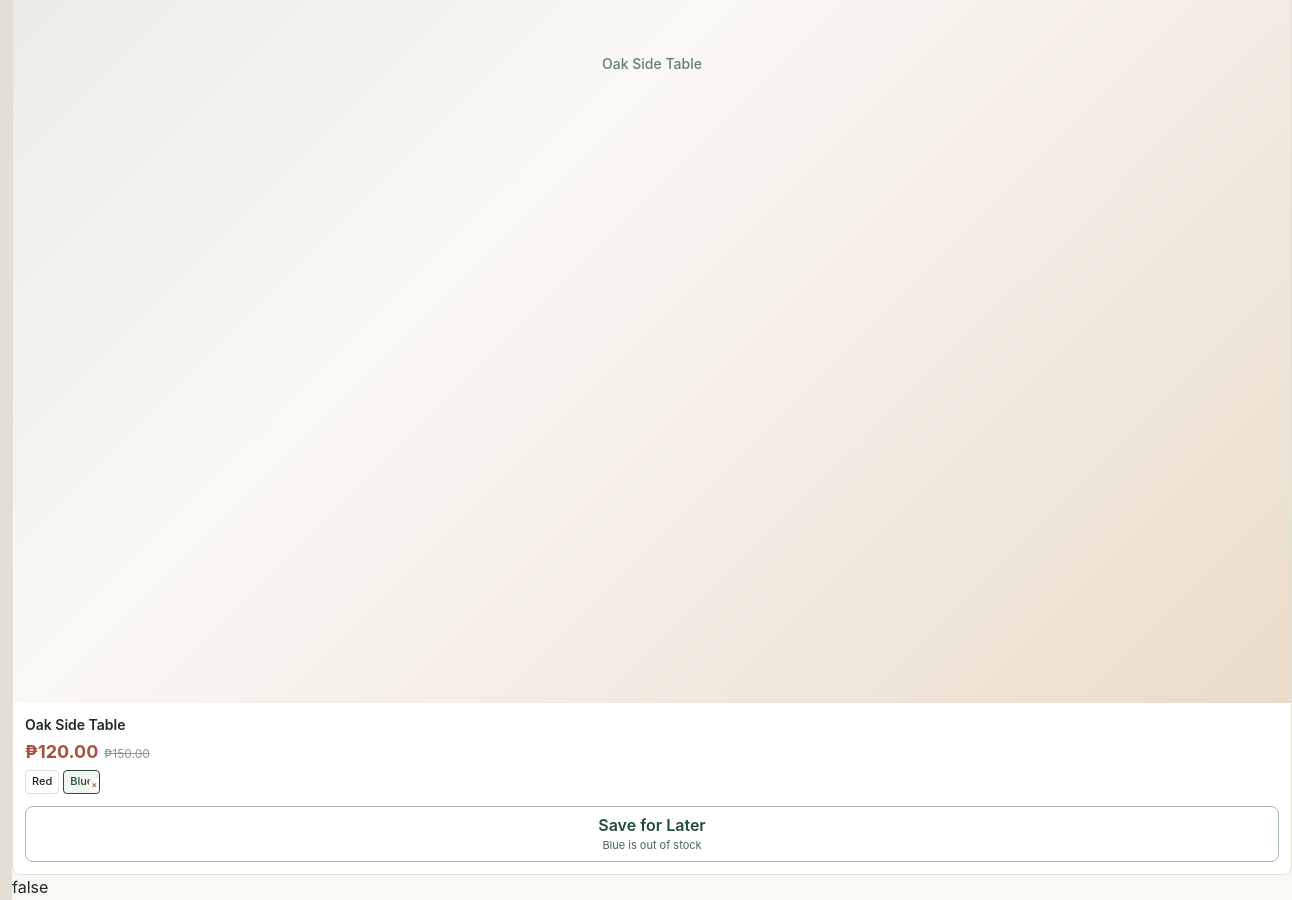
Test case: ProductCard inline purchase › lets an out-of-stock SKU be saved for later instead of inventing availability
(page scrolled)
Click the button "Save for Later Blue is out of stock" at (652, 834), box [25,806,1279,862]
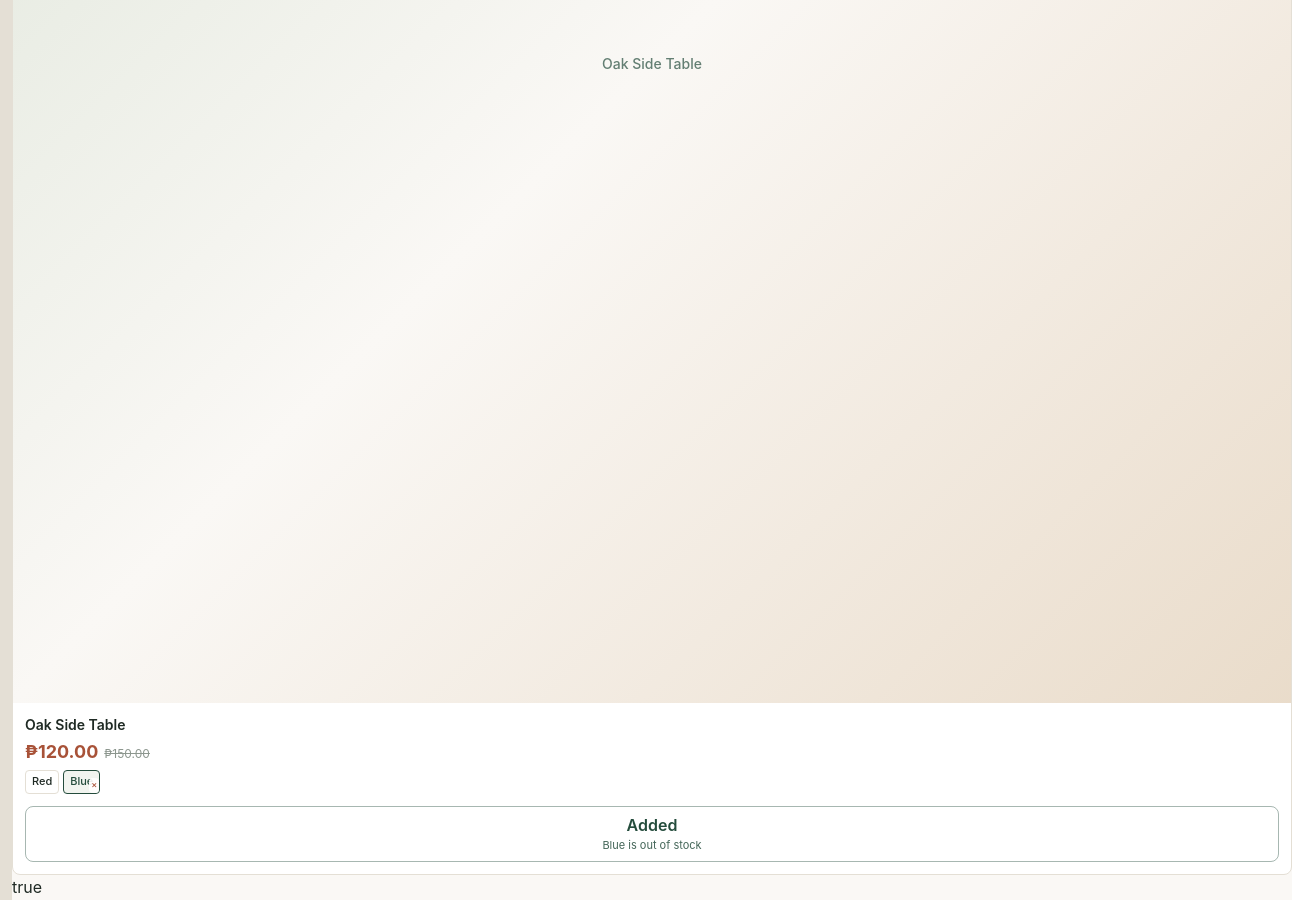
Check: the button "Added Blue is out of stock" is shown, box [25,806,1279,862]
